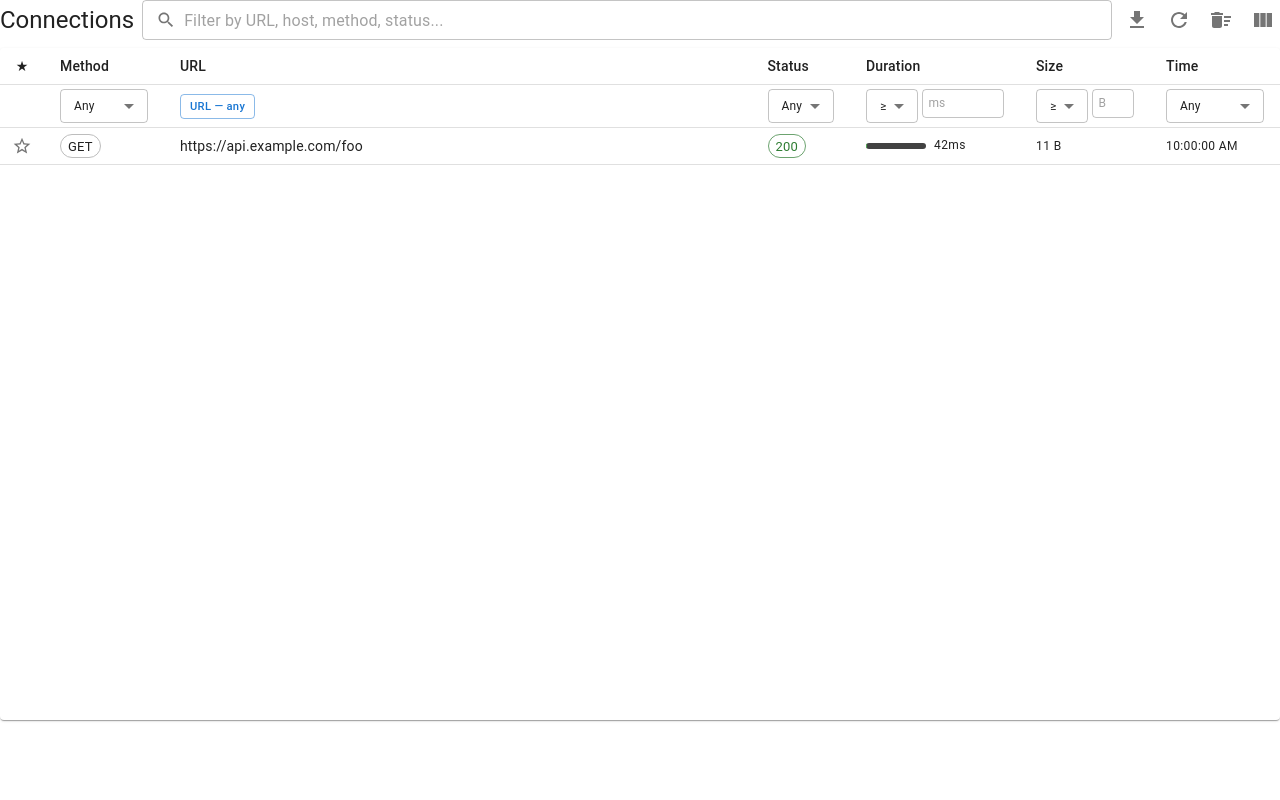
ConnectionsPage — detail drawer headers › renders both request and response header rows
The width and height of the screenshot is (1280, 800).
Click the text "https://api.example.com/foo" at (458, 147), box [164, 128, 752, 165]
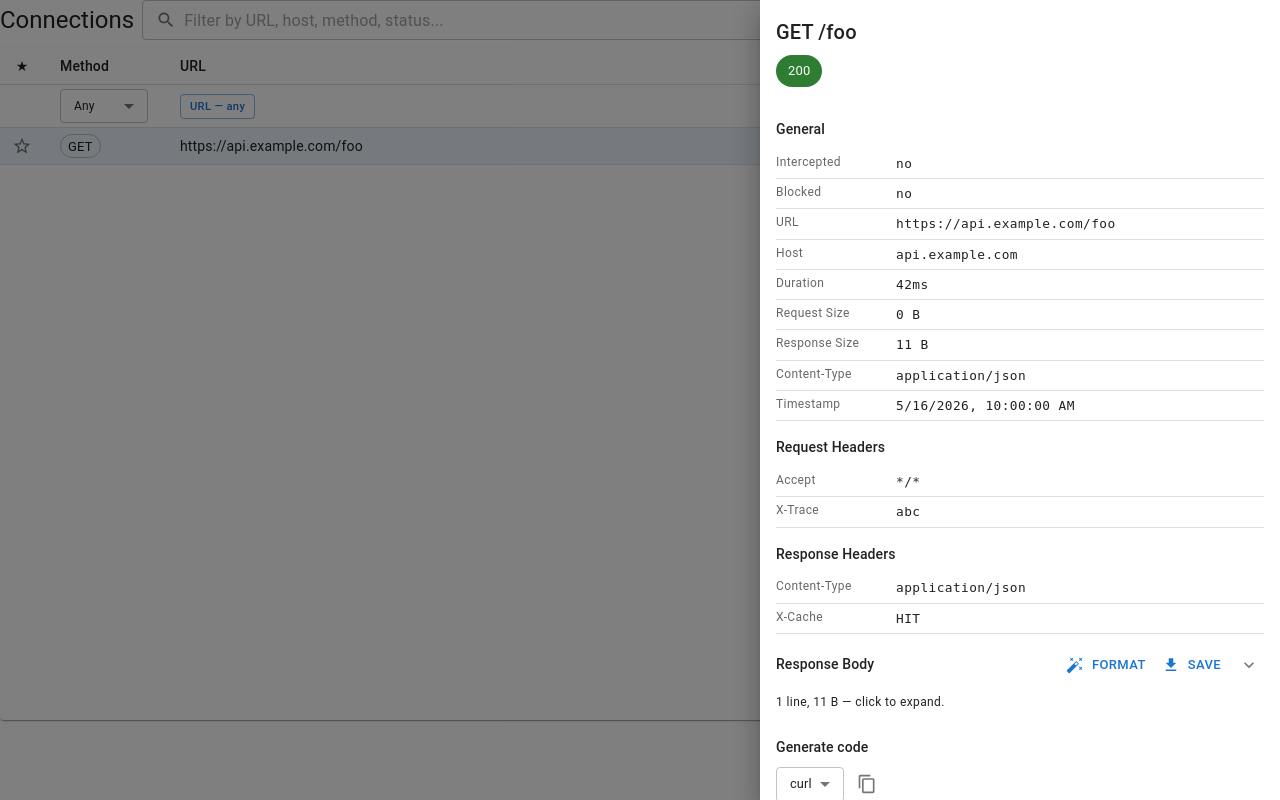
Now the heading "Request Headers" is shown, box [776, 439, 885, 455]
Now the heading "Response Headers" is shown, box [776, 546, 896, 562]
Now the text "X-Trace" is shown, box [776, 503, 819, 517]
